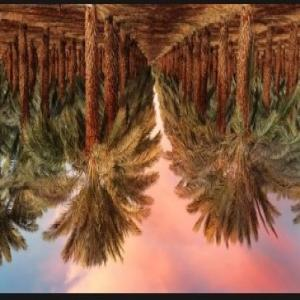palm tree: (152, 8, 299, 249)
